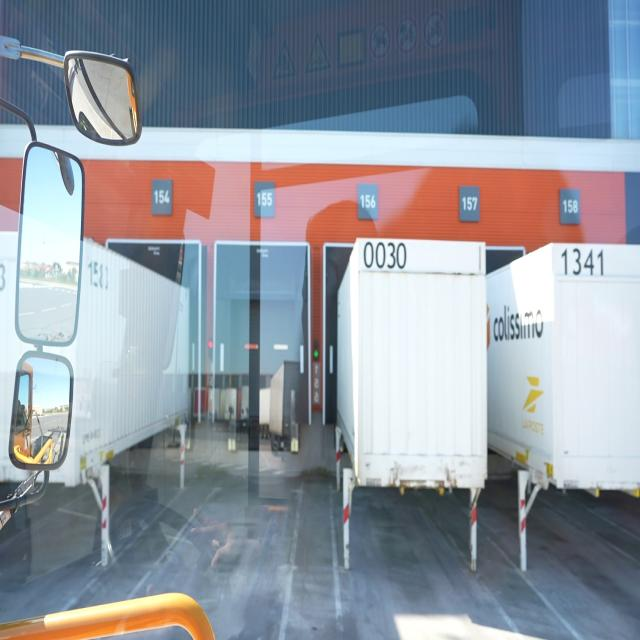Code: (556, 241, 608, 287), (362, 240, 408, 276)
